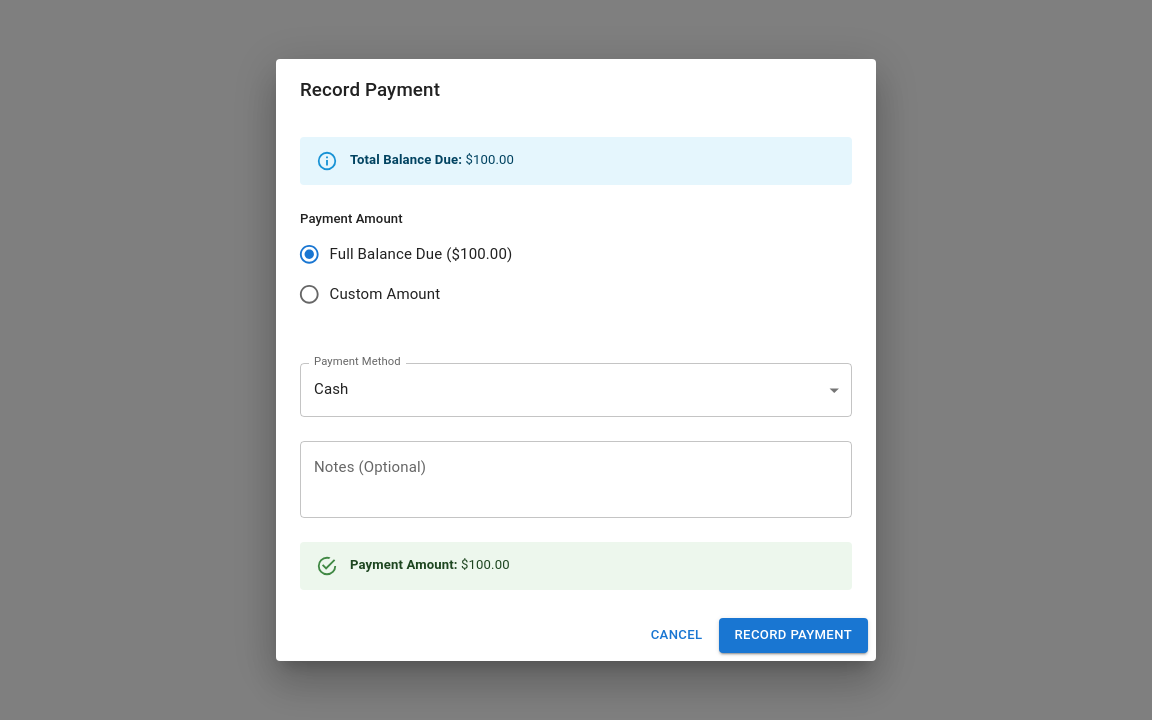
Test: RecordPaymentDialog › Payment Method Selection › should show check number field for check payments
Press the mouse on the dropdown at [331, 389], box [314,380,348,398]
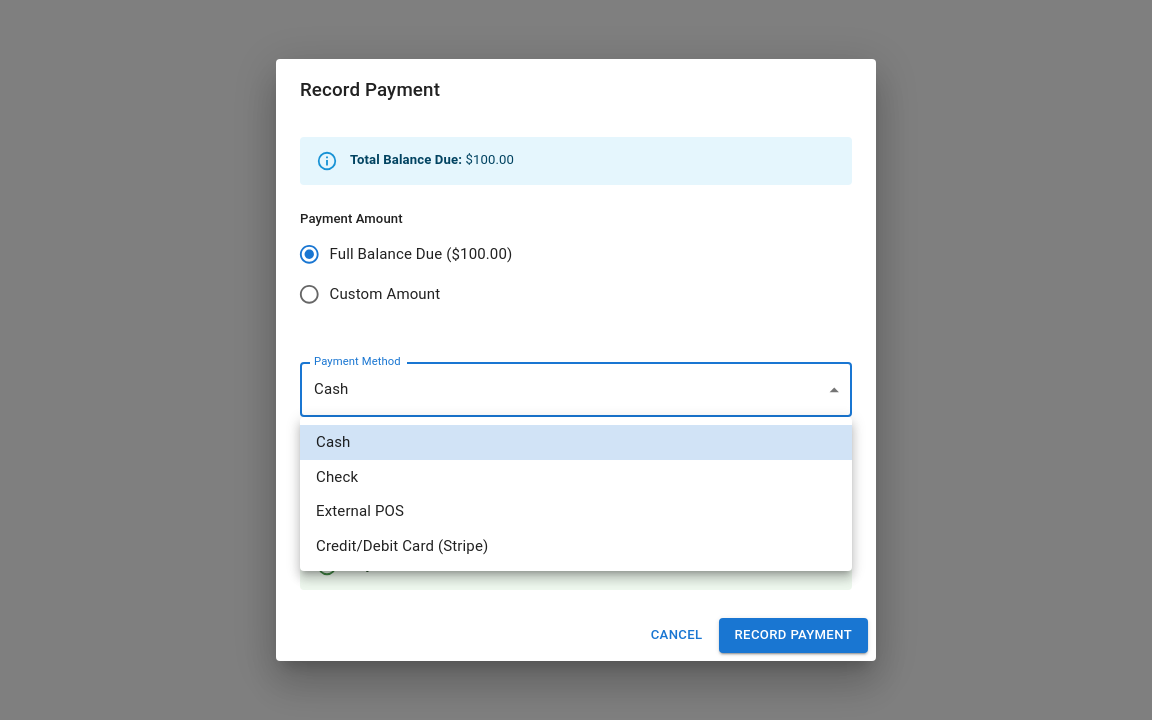
Click the option "Check" at [337, 476], box [316,468,358,486]
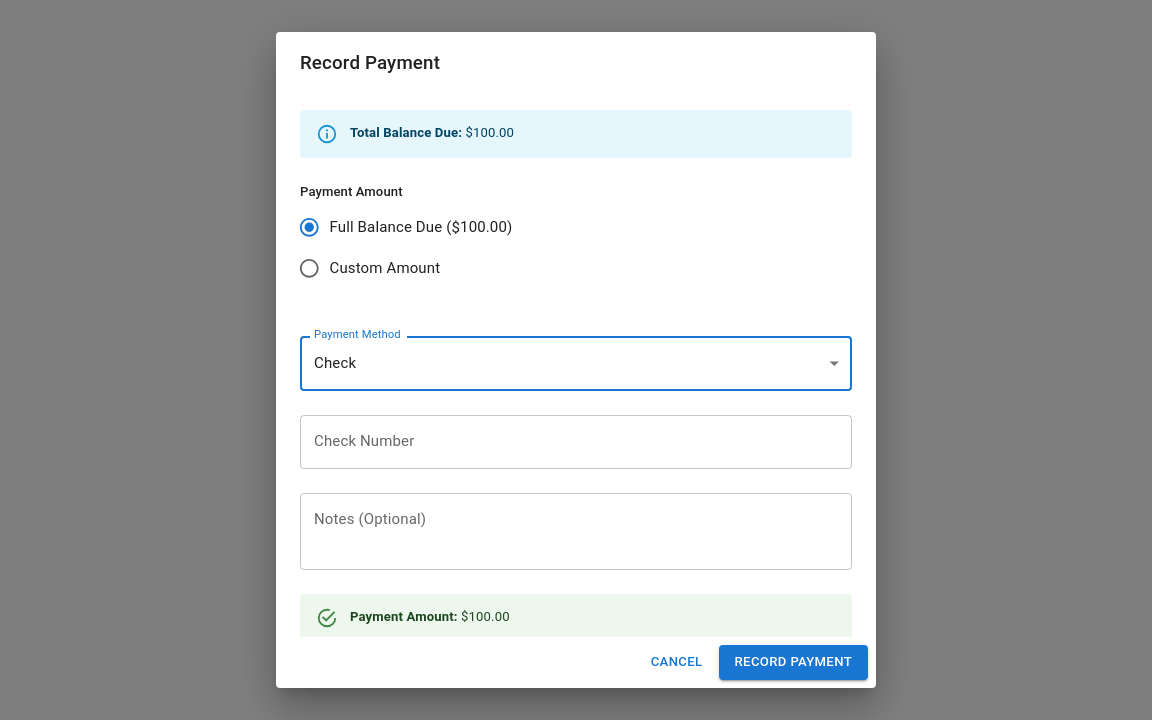
Check: the field labelled "Check Number" is shown, box [300,415,852,469]
